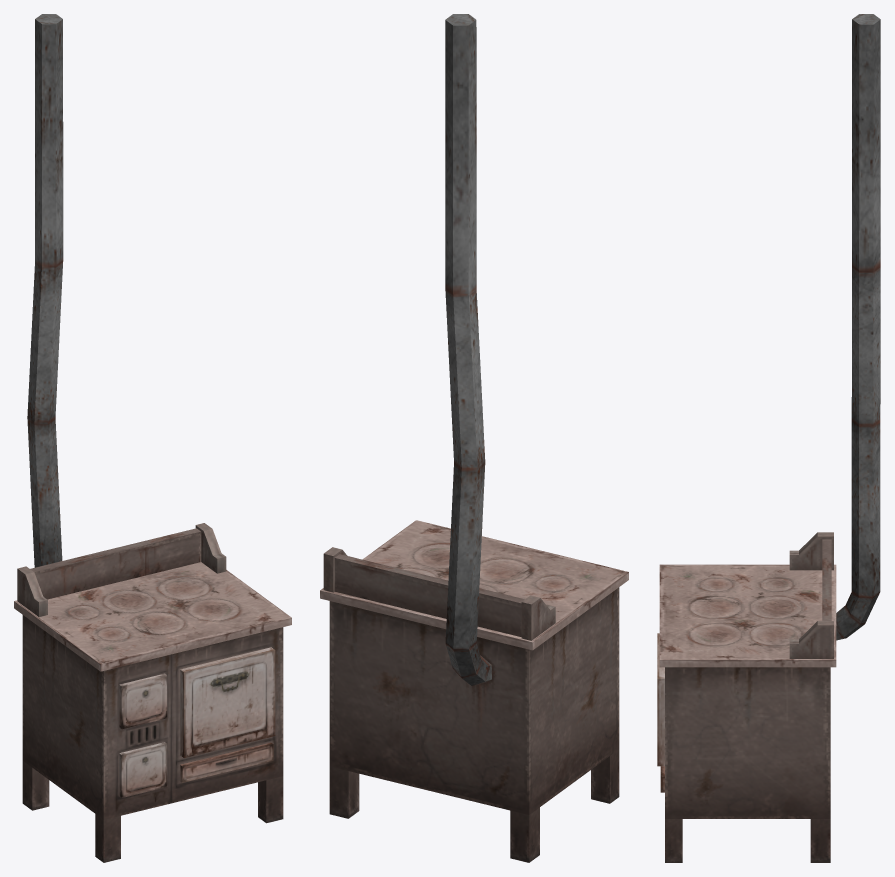
Rendered from Stove.fbx.
3 views of the same model, side by side, from view 1: azimuth 30°, elevation 25°; view 2: azimuth 150°, elevation 25°; view 3: azimuth 270°, elevation 25° (orthographic). The views are drawn at different scales.
Parts seen in each view (by area): view 1: Stove; view 2: Stove; view 3: Stove.
Part boxes in pixels (box(x1,y1,x2,y2)): Stove: box(14, 14, 291, 862); Stove: box(320, 14, 628, 862); Stove: box(657, 14, 880, 862).
Size of the model in its own units: 78.89 by 300 by 78.26.
